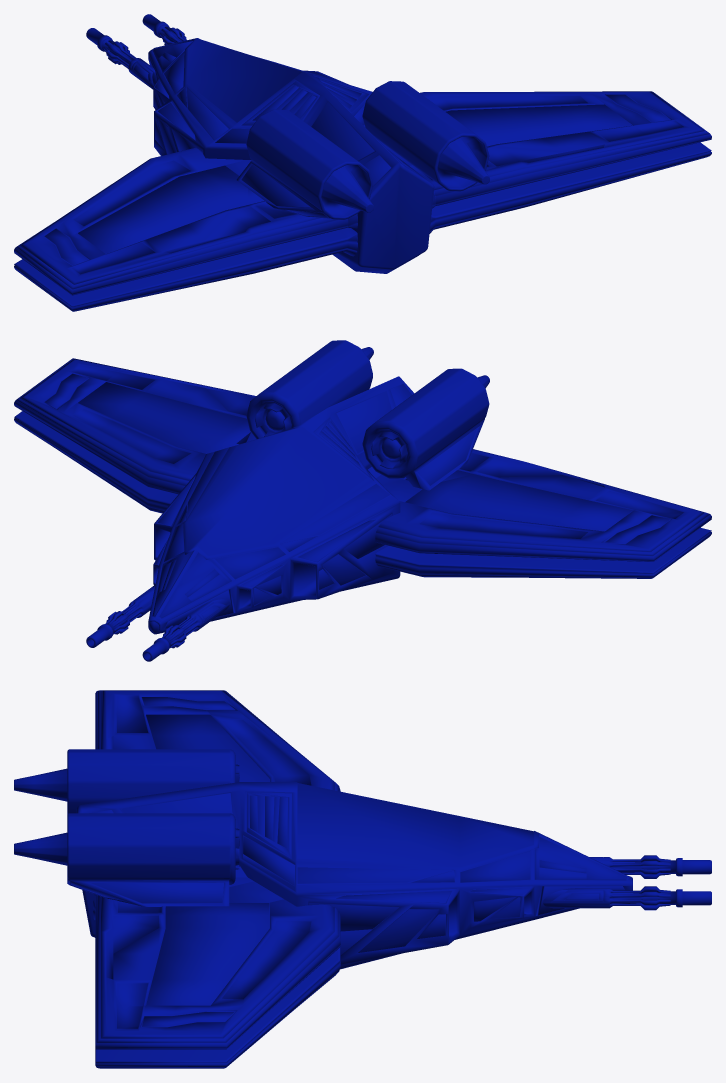
Rendered from Enemy_Blue.glb.
The picture shows the model from 3 angles, top to bottom: view 1: azimuth 30°, elevation 25°; view 2: azimuth 150°, elevation 25°; view 3: azimuth 270°, elevation 25°; orthographic projection. The views are drawn at different scales.
Visible parts, largest first — view 1: Small Space Fighter; view 2: Small Space Fighter; view 3: Small Space Fighter.
Boxes of the visible parts, box(x1,y1,x2,y2) form: Small Space Fighter: box(14, 14, 711, 311); Small Space Fighter: box(14, 340, 711, 661); Small Space Fighter: box(14, 690, 711, 1068).
Bounding box in the file's own units: 6.95 × 1.46 × 5.81.
